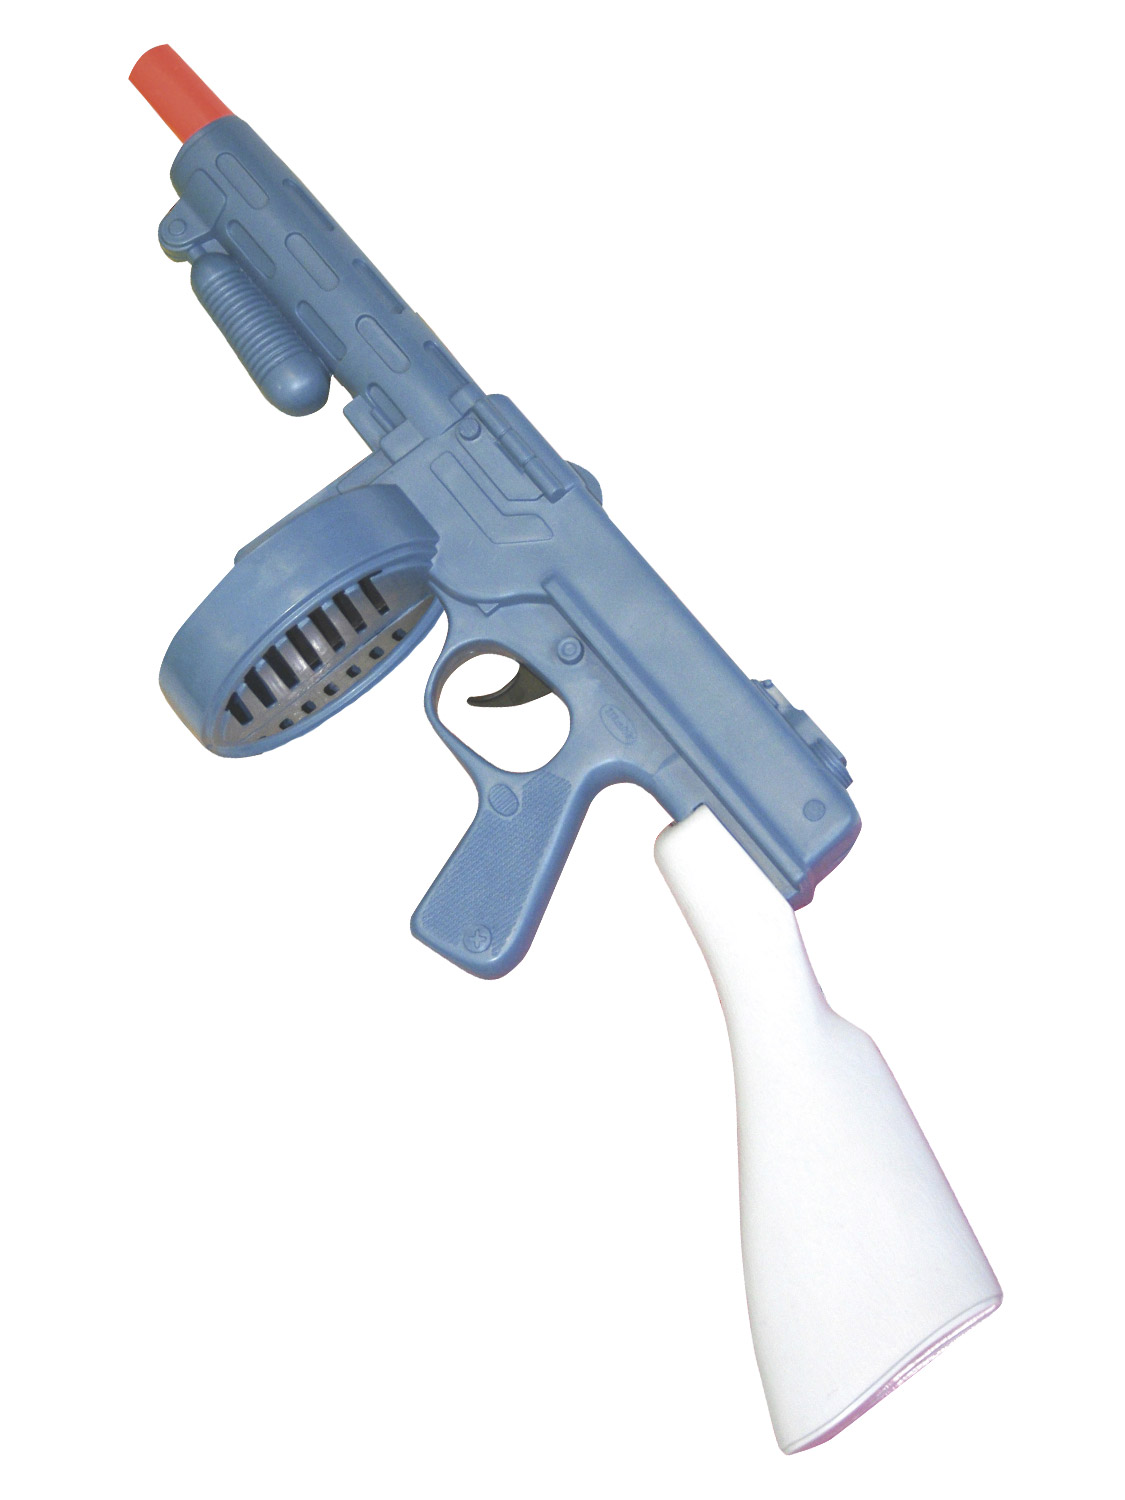Arma Falsa: (115, 34, 1015, 1411)
